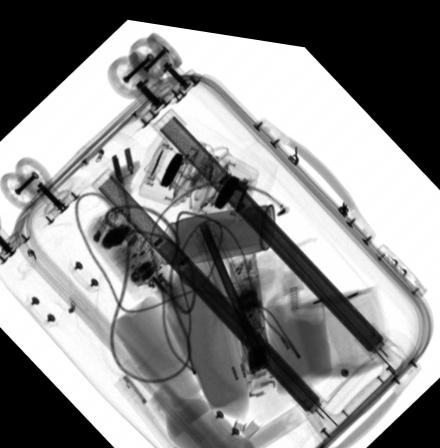Baton: (226, 242, 277, 388)
